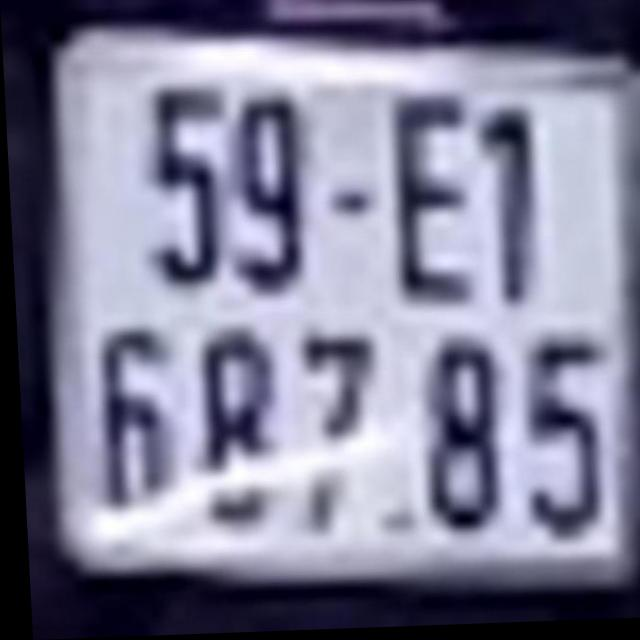1: (473, 107, 540, 311)
5: (519, 338, 605, 545), (145, 89, 227, 287)
6: (94, 327, 172, 528)
7: (294, 336, 374, 531)
8: (415, 338, 498, 535), (195, 328, 275, 526)
9: (228, 98, 305, 293)
E: (388, 95, 474, 308)
